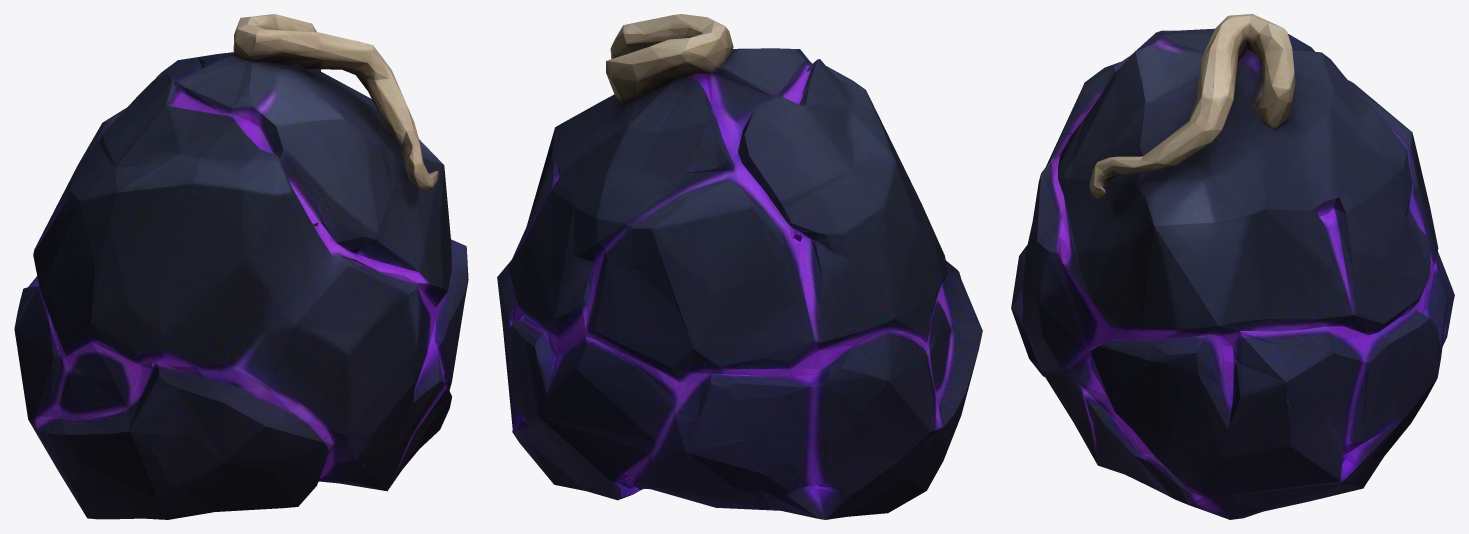
The model's file is abimes_rocher.glb.
3 renders of one model, left to right at view 1: azimuth 30°, elevation 25°; view 2: azimuth 150°, elevation 25°; view 3: azimuth 270°, elevation 25°, orthographic. The views are drawn at different scales.
Parts seen in each view (by area): view 1: geometry_0; view 2: geometry_0; view 3: geometry_0.
Boxes of the visible parts, box(x1,y1,x2,y2) form: geometry_0: box(14, 14, 468, 519); geometry_0: box(497, 14, 982, 519); geometry_0: box(1011, 14, 1454, 519).
Bounding box in the file's own units: 0.951 × 1 × 0.8924.
1 material, 1 textured.
